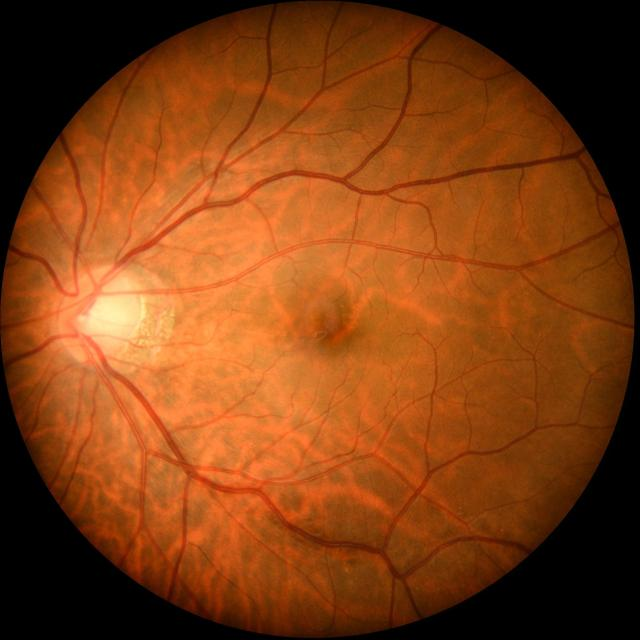OC: (80, 289, 124, 340)
OD: (56, 265, 142, 361)
